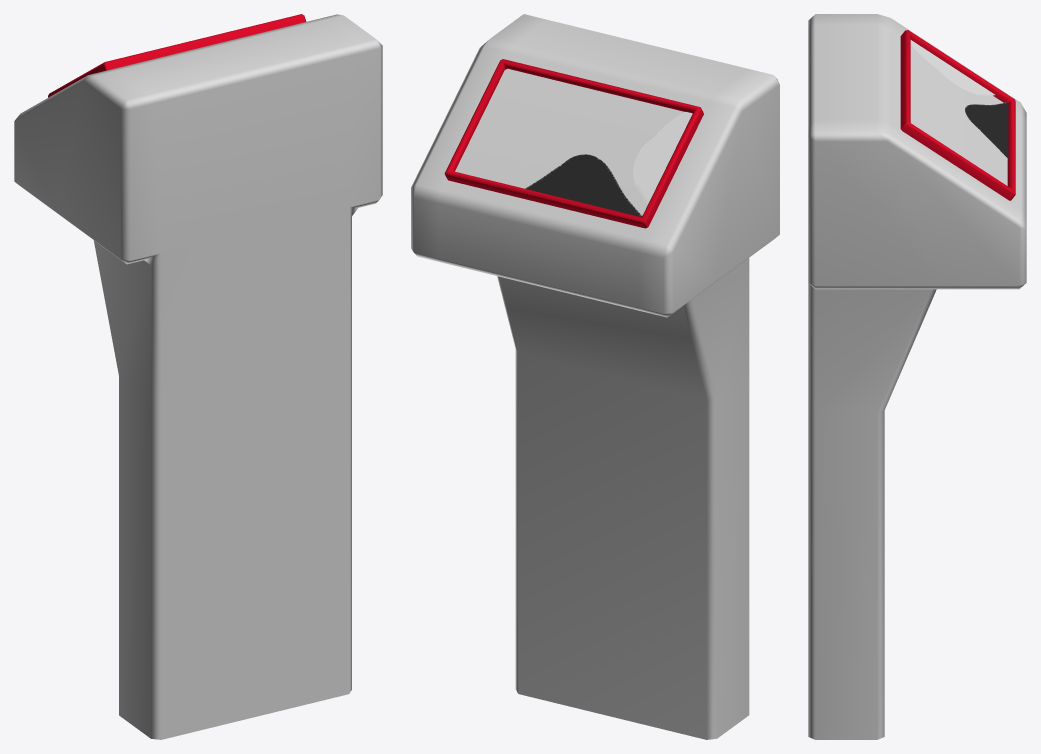
File: ConsoleIndustrial.fbx
3 views of the same model, side by side, from view 1: azimuth 30°, elevation 25°; view 2: azimuth 150°, elevation 25°; view 3: azimuth 270°, elevation 25° (orthographic). The views are drawn at different scales.
Parts seen in each view (by area): view 1: SonsoleMain, ConsoleScreen; view 2: SonsoleMain, ConsoleScreen; view 3: SonsoleMain, ConsoleScreen.
Boxes of the visible parts, x1,y1,x2,y2 form: SonsoleMain: (14,14,382,739); ConsoleScreen: (48,14,306,97); SonsoleMain: (411,14,779,739); ConsoleScreen: (444,59,703,228); SonsoleMain: (808,14,1026,739); ConsoleScreen: (900,30,1015,200).
Bounding box in the file's own units: 40 × 94 × 30.
